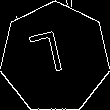L_S: (34, 30, 76, 86)
